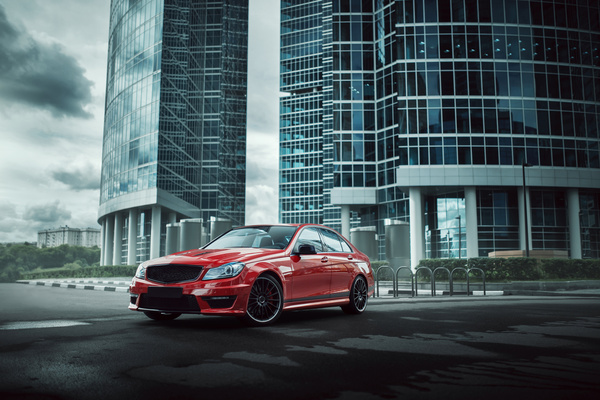car: (131, 223, 375, 316)
